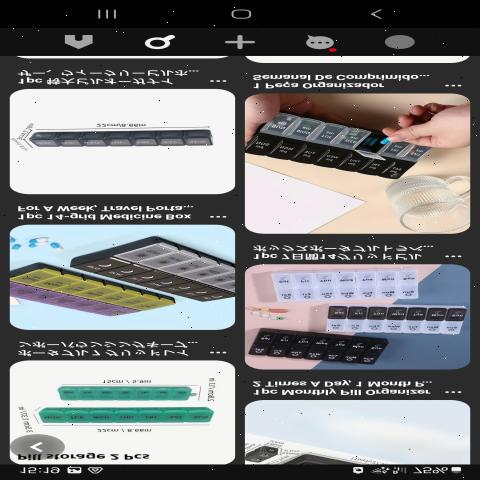PillBox: (251, 104, 436, 180), (89, 240, 241, 312), (27, 121, 219, 158), (249, 328, 394, 370), (326, 307, 476, 338)
